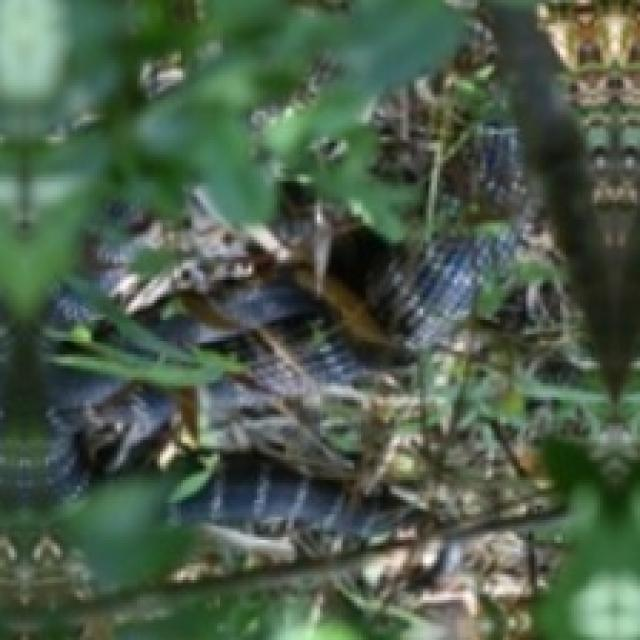king cobra: (139, 230, 516, 407), (171, 450, 419, 557), (440, 126, 524, 206), (49, 420, 89, 497)
